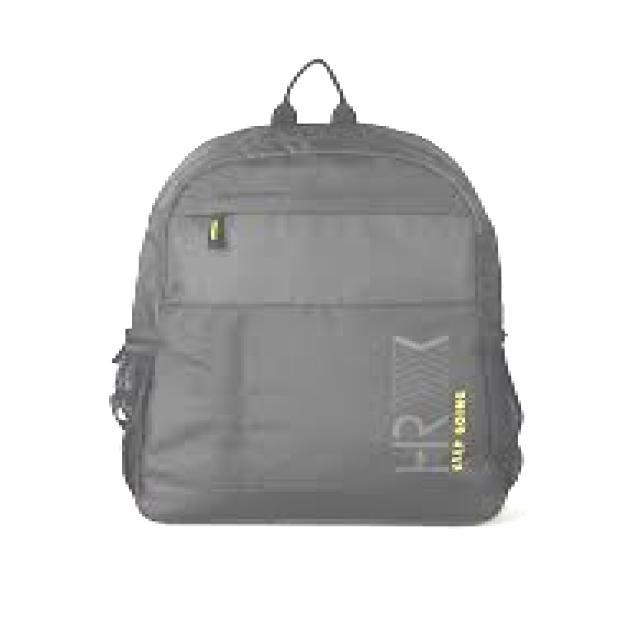backpack: (107, 58, 526, 525)
